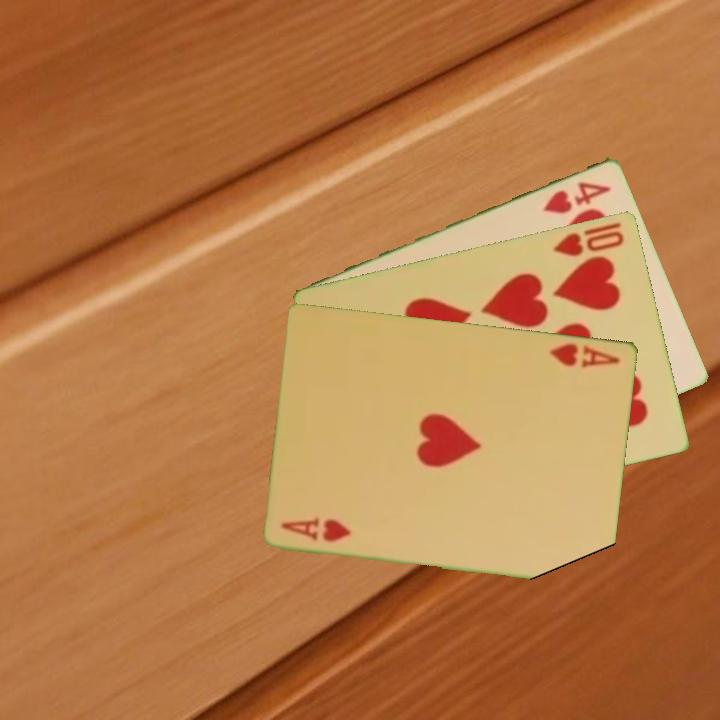10h: (550, 218, 627, 259)
4h: (540, 177, 614, 217)
Ah: (546, 339, 623, 370), (278, 515, 355, 544)
